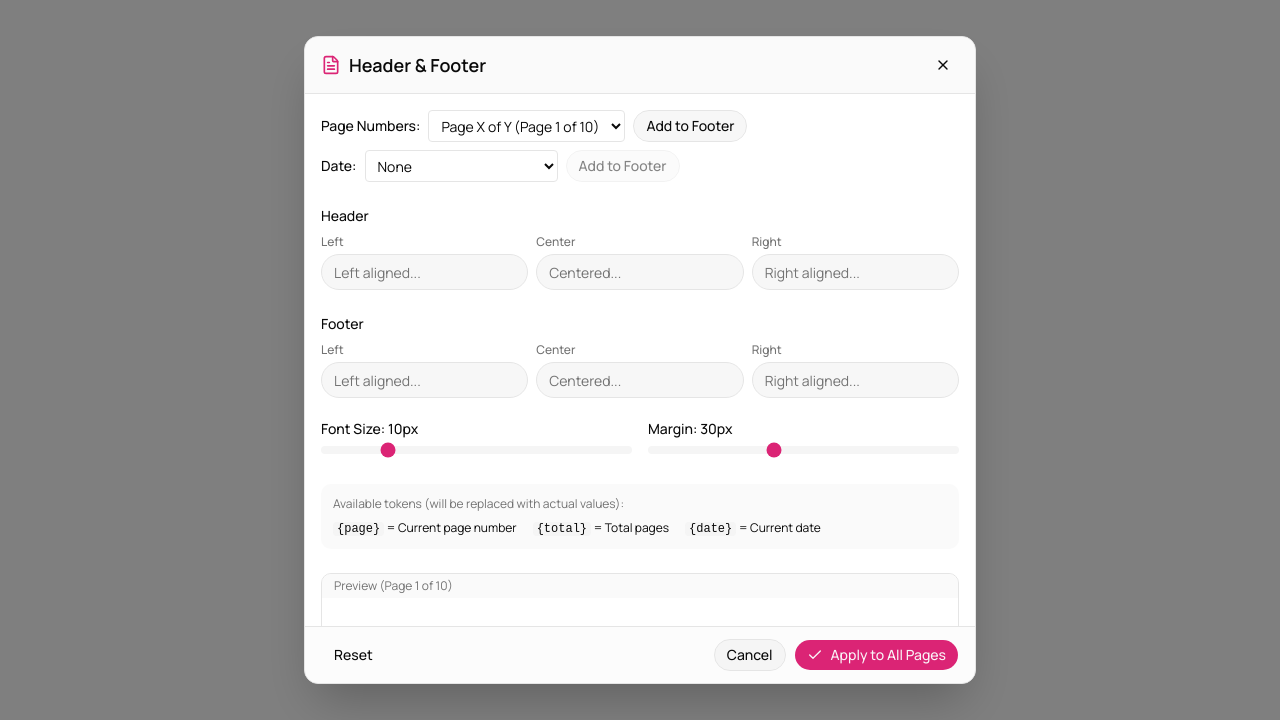
HeaderFooterModal › should reset all fields when Reset is clicked
# Add some content
Type "Some footer text" into the 2nd field with placeholder "Centered...".
click(640, 380); type("Some footer text")  # box x1=536 y1=362 x2=744 y2=398
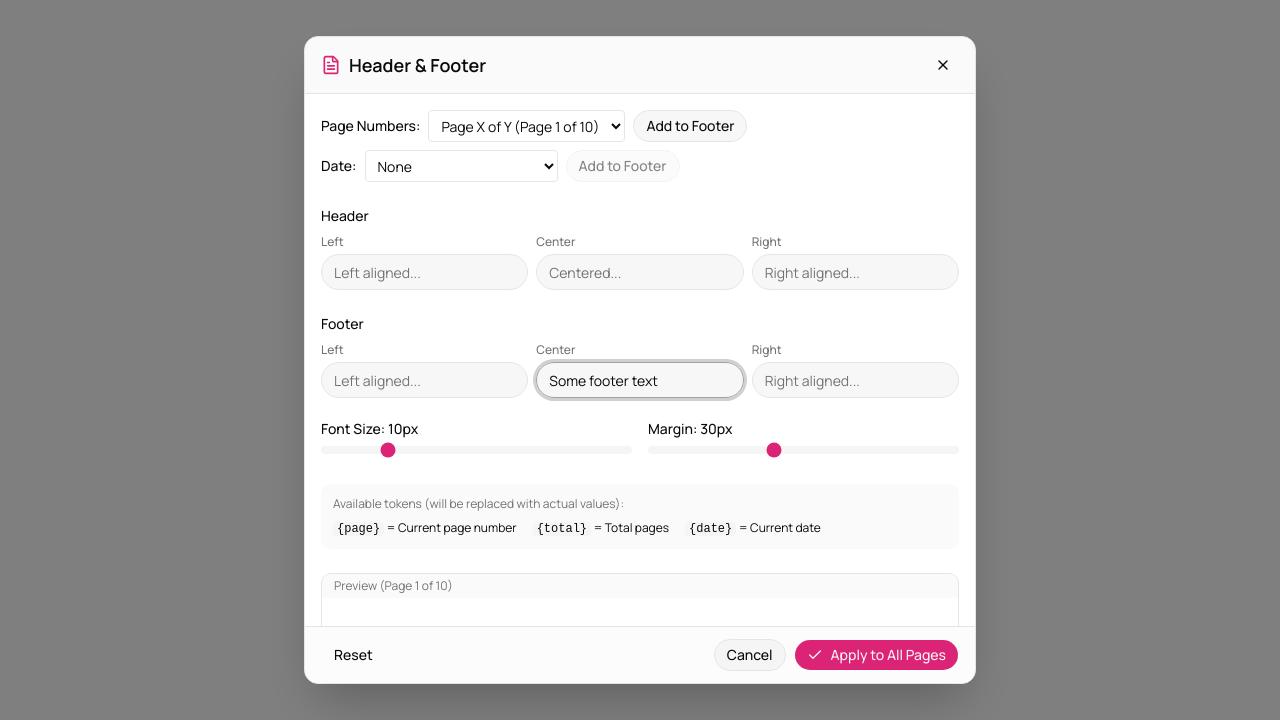
Click the button "Reset".
click(353, 655)  # box x1=321 y1=639 x2=386 y2=671
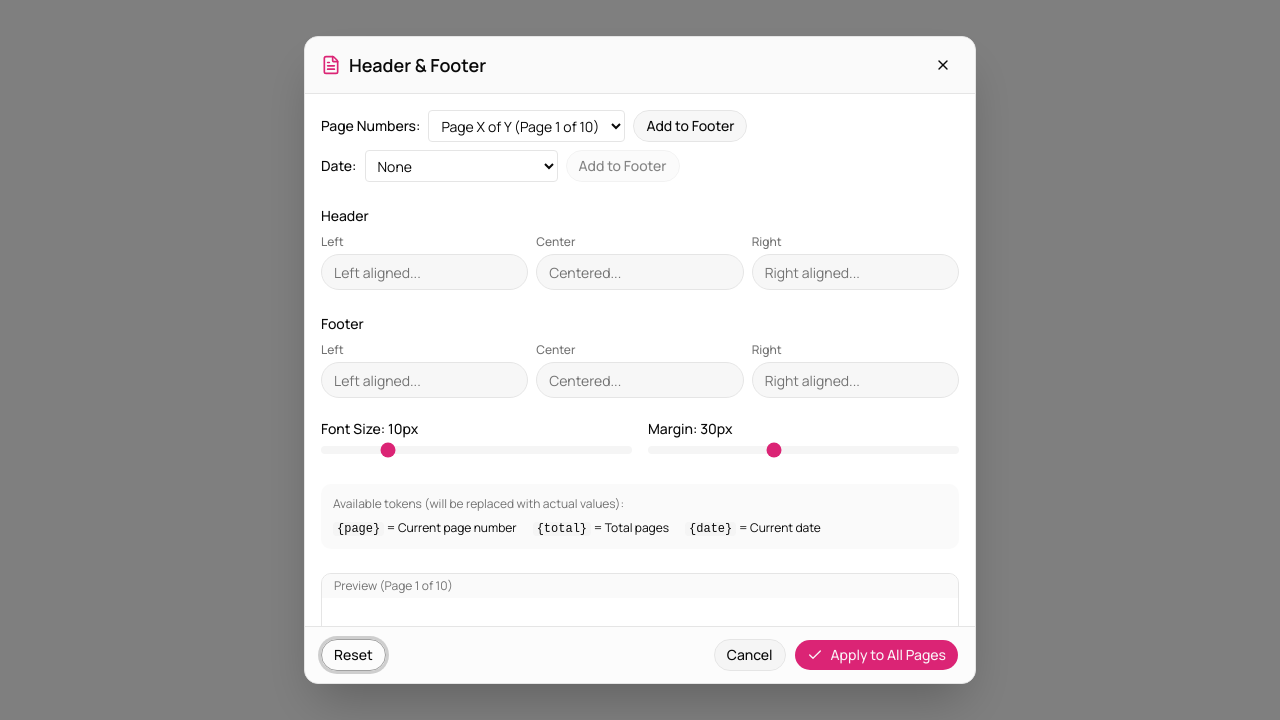
Expected: the 1st field with placeholder "Left aligned..." is empty, x1=321 y1=254 x2=528 y2=290
Now the 2nd field with placeholder "Centered..." is empty, box x1=536 y1=362 x2=744 y2=398
